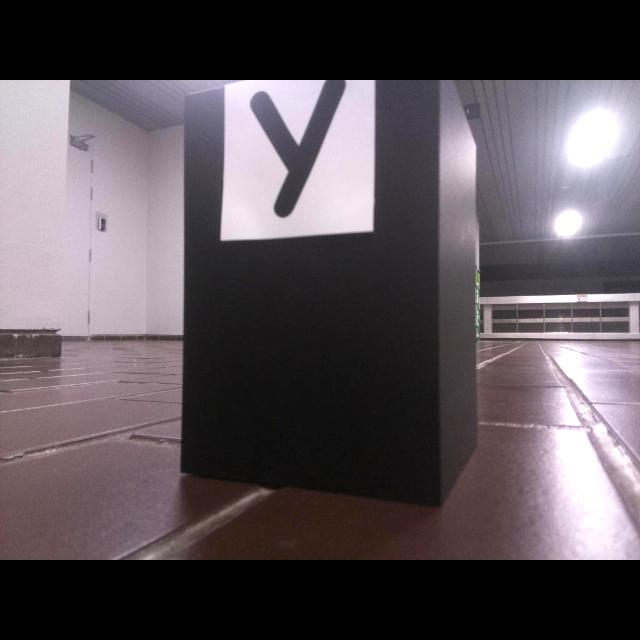Y: (251, 80, 345, 216)
